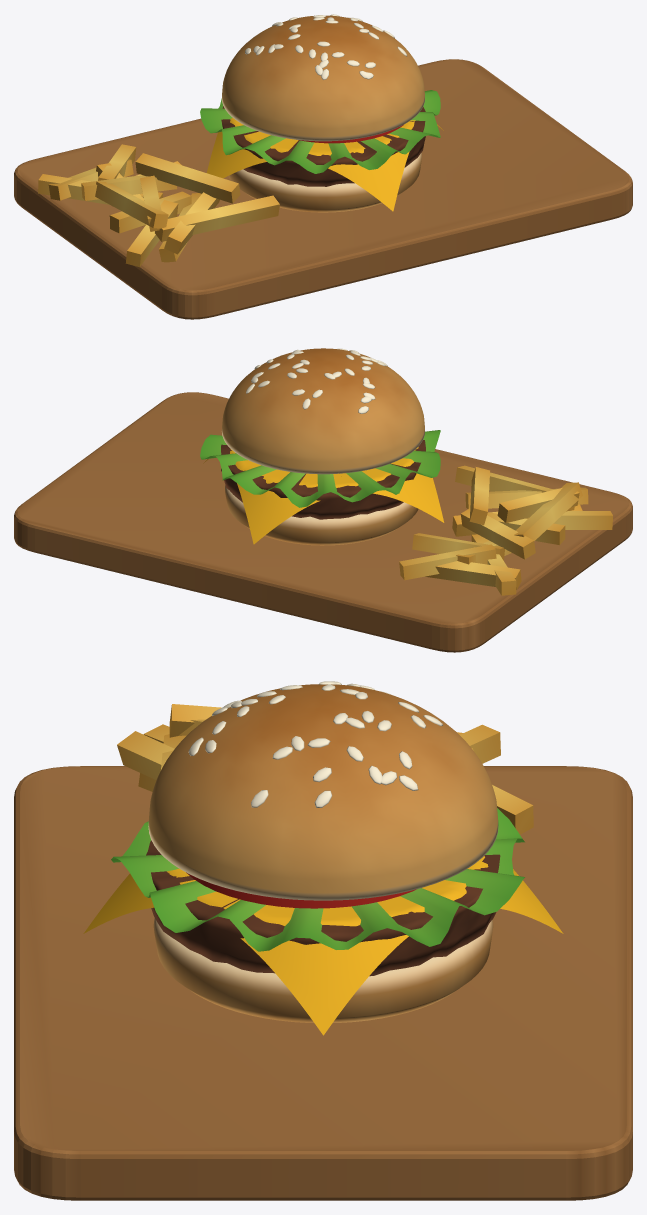
File: hamburguer.glb
3 renders of one model, top to bottom at view 1: azimuth 30°, elevation 25°; view 2: azimuth 150°, elevation 25°; view 3: azimuth 270°, elevation 25°, orthographic. The views are drawn at different scales.
Parts seen in each view (by area): view 1: hamburguer; view 2: hamburguer; view 3: hamburguer.
Boxes of the visible parts, x1=… form: hamburguer: x1=14, y1=14, x2=632, y2=319; hamburguer: x1=14, y1=348, x2=632, y2=652; hamburguer: x1=14, y1=681, x2=632, y2=1200.
Size of the model in its own units: 0.3114 by 0.1103 by 0.204.
